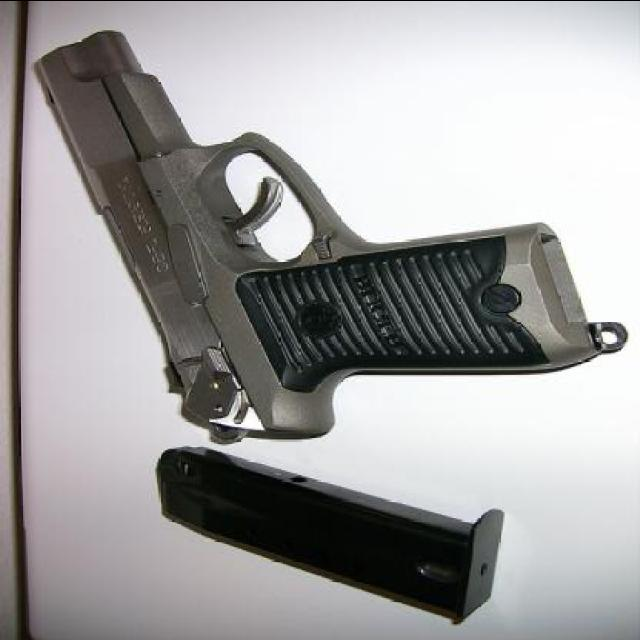pistol: (33, 29, 599, 442)
